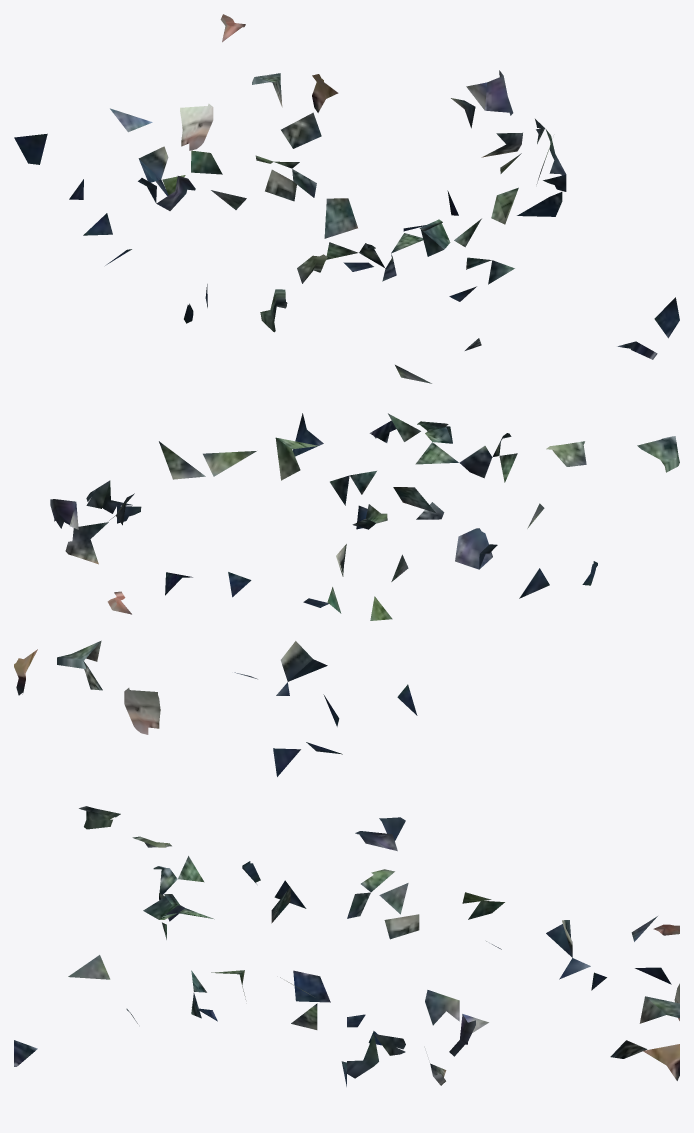
3 renders of one model, top to bottom at view 1: azimuth 30°, elevation 25°; view 2: azimuth 150°, elevation 25°; view 3: azimuth 270°, elevation 25°, orthographic. The views are drawn at different scales.
Visible parts, largest first — view 1: 30436272704370407431_1; view 2: 30436272704370407431_1; view 3: 30436272704370407431_1.
Part boxes in pixels (left/top/right/bottom): 30436272704370407431_1: left=14, top=14, right=679, bottom=383; 30436272704370407431_1: left=14, top=413, right=679, bottom=776; 30436272704370407431_1: left=14, top=806, right=679, bottom=1086.
Bounding box in the file's own units: 27.31 × 9.09 × 38.26.
1 material, 1 textured.
